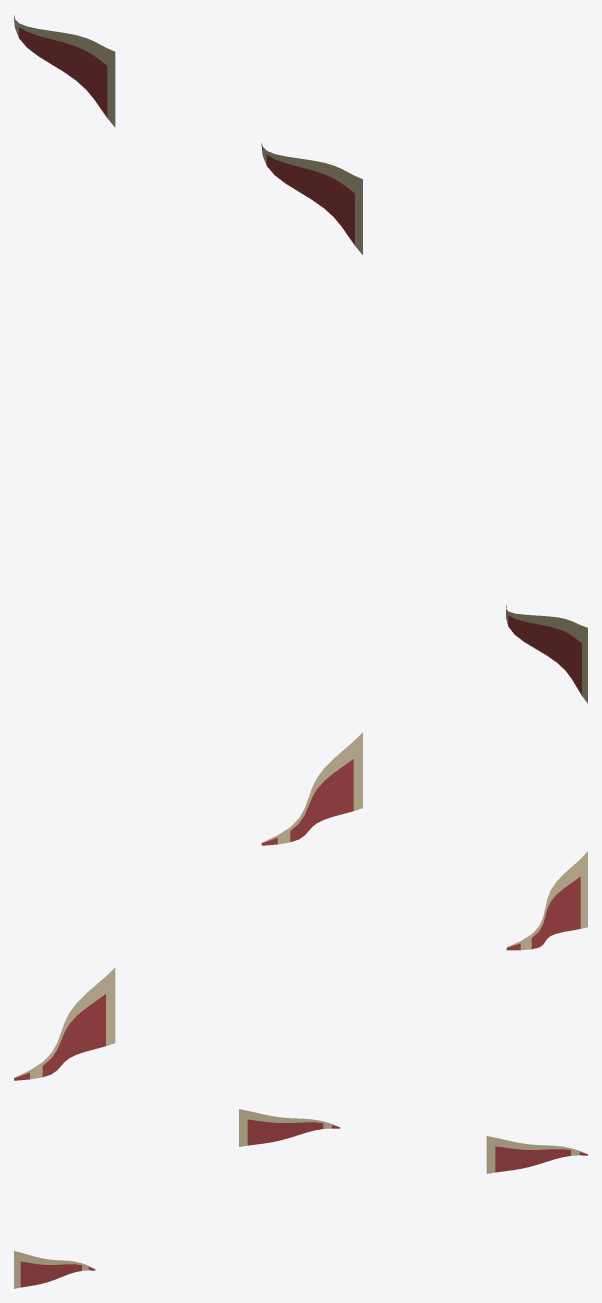
File: pennants_pointed.glb
The picture shows the model from 3 angles, top to bottom: view 1: azimuth 30°, elevation 25°; view 2: azimuth 150°, elevation 25°; view 3: azimuth 270°, elevation 25°; orthographic projection. The views are drawn at different scales.
Visible parts, largest first — view 1: Aft pennant.002, Main pennant.002, Fore pennant.002; view 2: Aft pennant.002, Main pennant.002, Fore pennant.002; view 3: Aft pennant.002, Main pennant.002, Fore pennant.002.
Part boxes in pixels (<box>): Aft pennant.002: <box>14,15,115,127</box>; Main pennant.002: <box>261,143,362,254</box>; Fore pennant.002: <box>506,605,587,703</box>; Aft pennant.002: <box>14,967,115,1080</box>; Main pennant.002: <box>261,732,362,845</box>; Fore pennant.002: <box>506,851,587,950</box>; Aft pennant.002: <box>486,1136,587,1173</box>; Main pennant.002: <box>239,1109,340,1146</box>; Fore pennant.002: <box>14,1251,95,1288</box>.
Size of the model in its own units: 0.1973 by 4.02 by 11.62.
